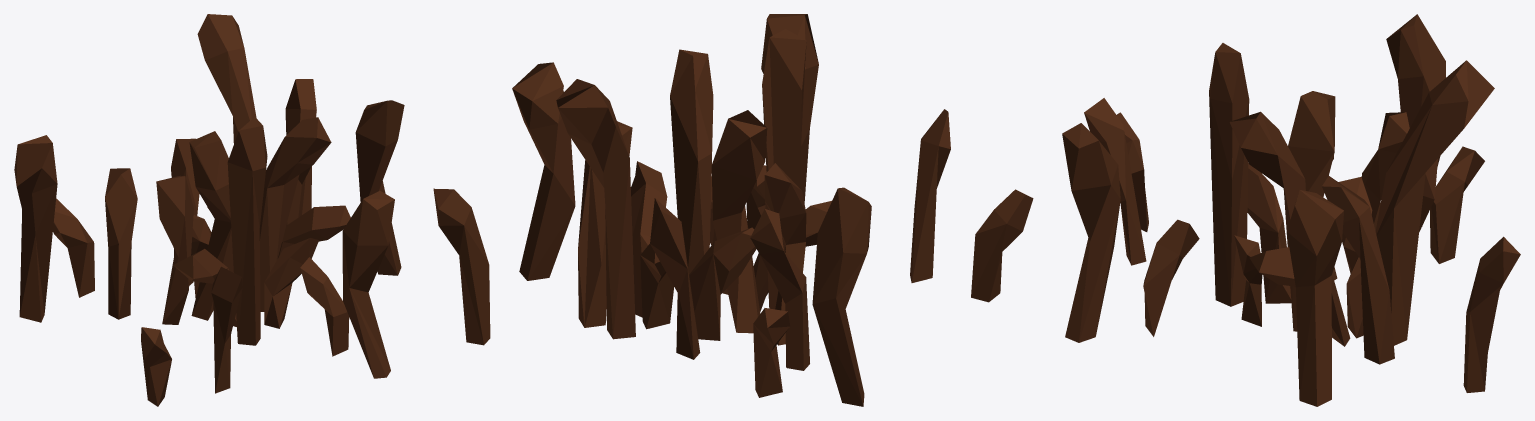
File: ShrubRoots04.fbx
The picture shows the model from 3 angles, left to right: view 1: azimuth 30°, elevation 25°; view 2: azimuth 150°, elevation 25°; view 3: azimuth 270°, elevation 25°; orthographic projection. The views are drawn at different scales.
Parts seen in each view (by area): view 1: ShrubRoots04; view 2: ShrubRoots04; view 3: ShrubRoots04.
Boxes of the visible parts, left/top/right/bottom form: ShrubRoots04: left=14, top=14, right=404, bottom=406; ShrubRoots04: left=433, top=14, right=1033, bottom=406; ShrubRoots04: left=1062, top=14, right=1520, bottom=406.
Size of the model in its own units: 88.23 by 58.86 by 88.01.
